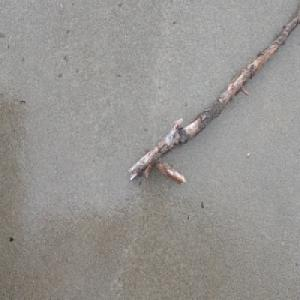Wood: (127, 7, 300, 185)
